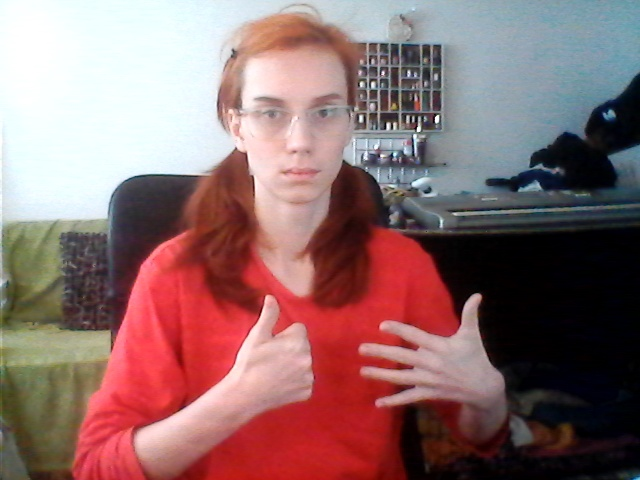sest: (236, 283, 502, 424)
